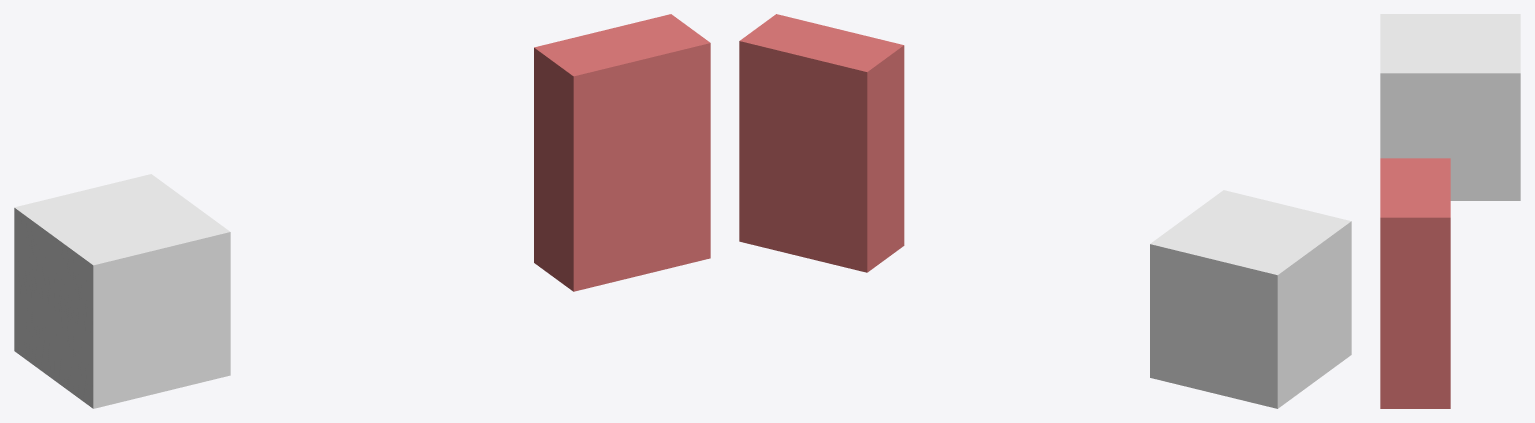
File: example_convitto.glb
The picture shows the model from 3 angles, left to right: view 1: azimuth 30°, elevation 25°; view 2: azimuth 150°, elevation 25°; view 3: azimuth 270°, elevation 25°; orthographic projection. The views are drawn at different scales.
Parts seen in each view (by area): view 1: GoxelVoxelScene; view 2: GoxelVoxelScene; view 3: GoxelVoxelScene.
Part boxes in pixels (box(x1,y1,x2,y2)): GoxelVoxelScene: box(14, 14, 710, 408); GoxelVoxelScene: box(739, 14, 1351, 408); GoxelVoxelScene: box(1380, 14, 1520, 408).
Bounding box in the file's own units: 4.5 × 1.5 × 1.
